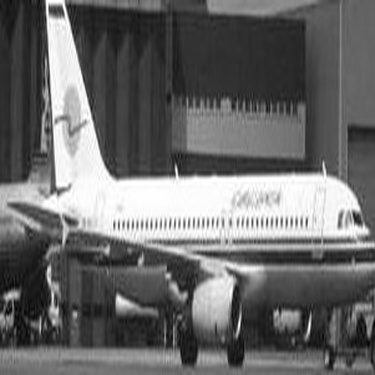airplane: (3, 1, 370, 372), (7, 26, 74, 290)
